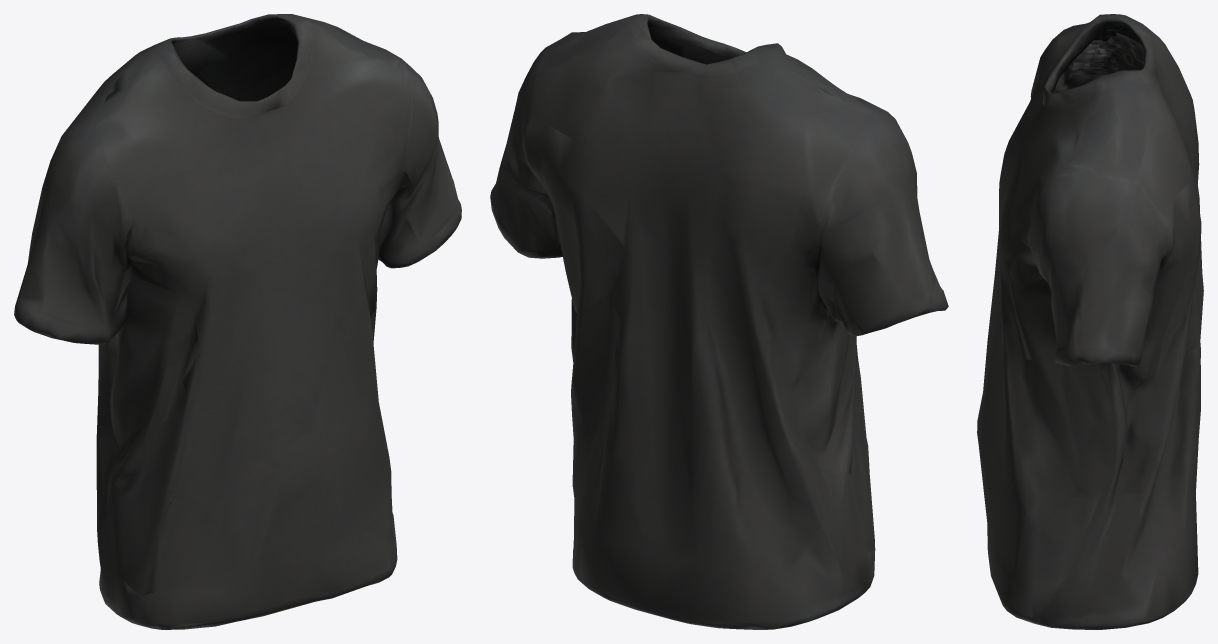
The model's file is blackshirt.fbx.
The picture shows the model from 3 angles, left to right: view 1: azimuth 30°, elevation 25°; view 2: azimuth 150°, elevation 25°; view 3: azimuth 270°, elevation 25°; orthographic projection. The views are drawn at different scales.
Visible parts, largest first — view 1: Mesh_0; view 2: Mesh_0; view 3: Mesh_0.
Boxes of the visible parts, box(x1,y1,x2,y2) form: Mesh_0: box(14, 14, 461, 629); Mesh_0: box(490, 14, 948, 629); Mesh_0: box(977, 14, 1203, 629).
Size of the model in its own units: 170 by 200 by 77.79.
1 material, 1 textured.
